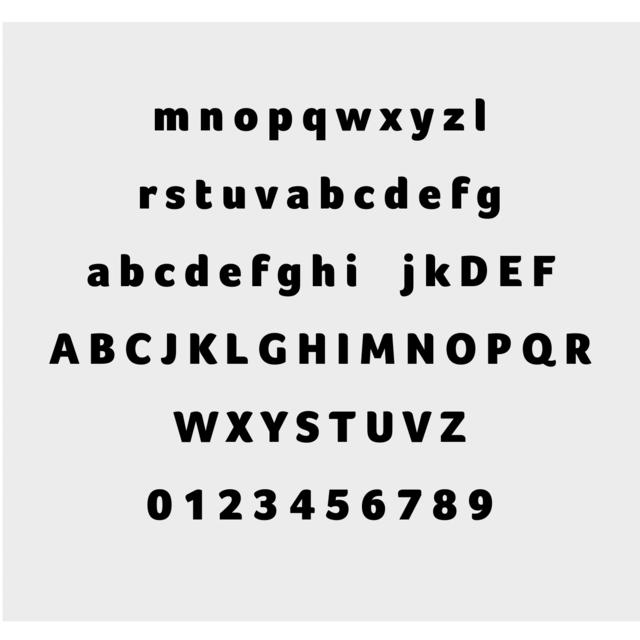alphabet: (518, 332, 557, 368), (356, 333, 398, 365), (171, 410, 208, 444), (145, 486, 173, 530), (444, 332, 478, 367), (49, 332, 83, 366), (402, 411, 435, 443), (253, 488, 279, 528), (432, 487, 460, 524), (258, 332, 288, 366), (406, 332, 436, 366), (260, 410, 290, 444), (298, 332, 328, 366), (365, 410, 395, 444), (328, 410, 358, 443), (275, 262, 301, 300), (563, 332, 591, 367), (124, 332, 152, 367), (335, 106, 374, 131), (409, 106, 436, 142), (484, 332, 512, 366), (226, 410, 254, 444), (468, 487, 495, 522), (476, 183, 502, 219), (325, 488, 351, 524), (317, 174, 343, 210), (458, 256, 487, 288), (217, 487, 242, 524), (154, 106, 192, 130), (267, 106, 293, 141), (359, 487, 385, 522), (383, 174, 408, 210), (439, 410, 467, 442), (397, 488, 424, 521), (296, 410, 322, 444), (302, 107, 328, 141), (288, 487, 314, 521), (187, 332, 213, 366), (183, 254, 208, 289), (90, 333, 117, 365), (309, 256, 335, 289), (498, 255, 522, 288), (227, 332, 250, 366), (530, 256, 554, 288), (250, 253, 271, 289), (451, 174, 472, 210), (233, 106, 260, 133), (378, 106, 404, 131), (184, 488, 204, 520), (160, 332, 178, 367), (199, 333, 218, 366), (87, 263, 111, 289), (254, 187, 280, 211), (285, 186, 309, 211), (222, 185, 247, 209), (199, 106, 224, 130), (219, 264, 243, 288), (443, 107, 467, 131), (418, 186, 441, 211), (165, 184, 187, 210), (155, 262, 177, 288), (196, 178, 214, 209), (353, 186, 375, 211), (138, 186, 158, 210), (345, 252, 358, 288), (434, 262, 451, 288), (473, 96, 485, 132), (337, 332, 350, 365), (423, 252, 435, 287)
